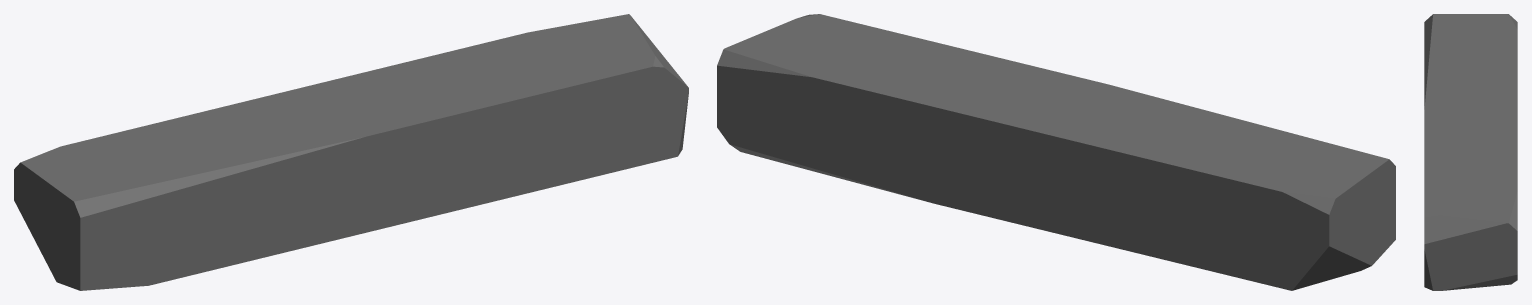
File: Brick_06.fbx
3 views of the same model, side by side, from view 1: azimuth 30°, elevation 25°; view 2: azimuth 150°, elevation 25°; view 3: azimuth 270°, elevation 25° (orthographic). The views are drawn at different scales.
Visible parts, largest first — view 1: Brick_06_LOD0; view 2: Brick_06_LOD0; view 3: Brick_06_LOD0.
Boxes of the visible parts, x1,y1,x2,y2 form: Brick_06_LOD0: [14, 14, 688, 290]; Brick_06_LOD0: [717, 14, 1395, 290]; Brick_06_LOD0: [1424, 14, 1517, 290].
Size of what is drawn, in the model's own units: 2.19 by 0.3311 by 0.4141.
